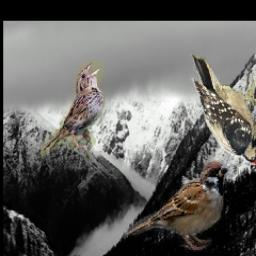Sparrow: (122, 157, 231, 252), (41, 61, 107, 179)
Woodpecker: (186, 51, 256, 167)
